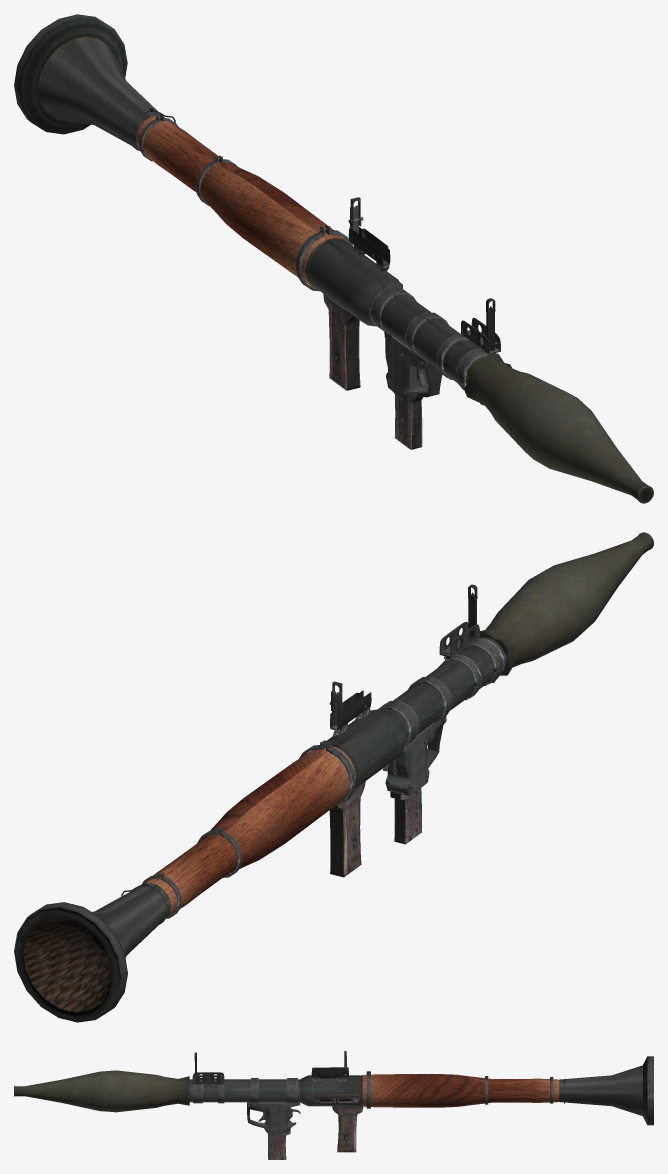
File: Rpg7.FBX
3 views of the same model, one above another, from view 1: azimuth 30°, elevation 25°; view 2: azimuth 150°, elevation 25°; view 3: azimuth 270°, elevation 25° (orthographic). The views are drawn at different scales.
Visible parts, largest first — view 1: Rpg 7 (3dislands.blogspot.com) TDG Soft Sri lanka, rpg 7 bullet; view 2: Rpg 7 (3dislands.blogspot.com) TDG Soft Sri lanka, rpg 7 bullet; view 3: Rpg 7 (3dislands.blogspot.com) TDG Soft Sri lanka, rpg 7 bullet.
Boxes of the visible parts, bbox=[...] form: Rpg 7 (3dislands.blogspot.com) TDG Soft Sri lanka: bbox=[14, 14, 500, 449]; rpg 7 bullet: bbox=[464, 353, 653, 503]; Rpg 7 (3dislands.blogspot.com) TDG Soft Sri lanka: bbox=[14, 584, 506, 1022]; rpg 7 bullet: bbox=[478, 532, 653, 682]; Rpg 7 (3dislands.blogspot.com) TDG Soft Sri lanka: bbox=[188, 1051, 653, 1159]; rpg 7 bullet: bbox=[14, 1070, 189, 1112].
Size of the model in its own units: 0.0772 by 0.1332 by 0.7097.
